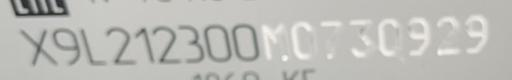letter: (16, 24, 58, 67), (104, 24, 138, 65), (432, 14, 464, 57), (288, 20, 320, 61), (403, 15, 433, 58), (346, 16, 376, 59), (150, 24, 182, 64), (260, 21, 292, 60), (202, 22, 234, 61), (462, 14, 492, 55), (79, 26, 109, 66), (175, 23, 205, 62), (51, 26, 81, 65), (230, 22, 260, 60), (376, 17, 404, 57), (317, 19, 345, 57), (134, 26, 156, 64)
